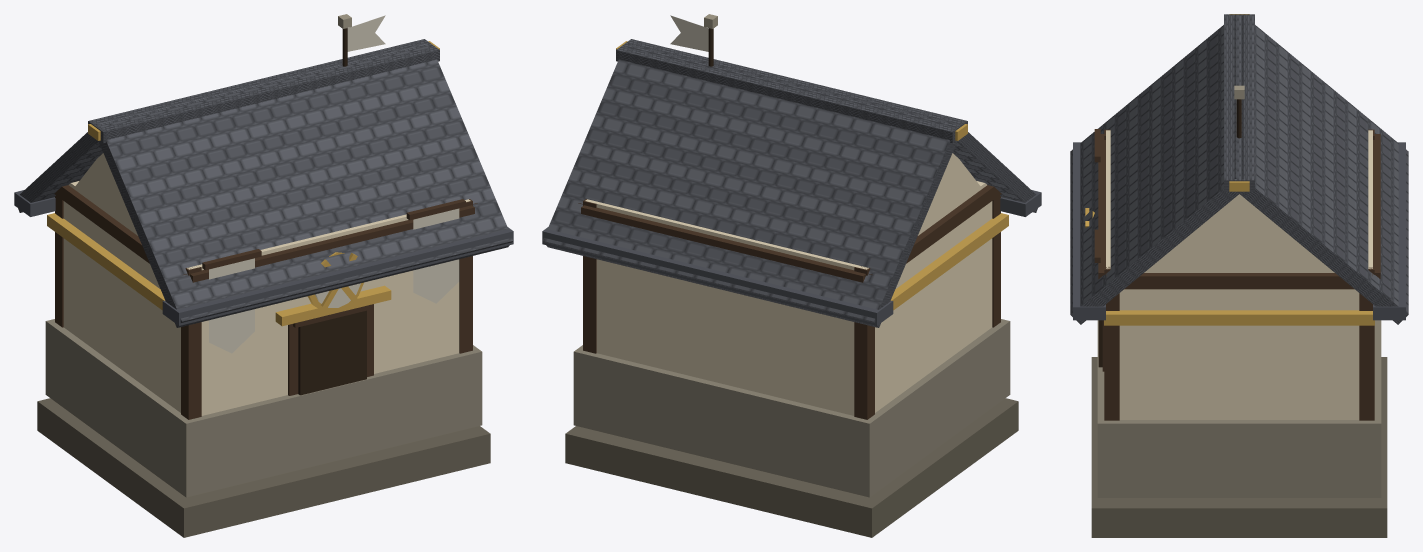
The model's file is mage-L1.glb.
3 views of the same model, side by side, from view 1: azimuth 30°, elevation 25°; view 2: azimuth 150°, elevation 25°; view 3: azimuth 270°, elevation 25° (orthographic).
Parts seen in each view (by area): view 1: building-elite-L1; view 2: building-elite-L1; view 3: building-elite-L1.
Boxes of the visible parts, box(x1,y1,x2,y2) form: building-elite-L1: box(14, 14, 513, 537); building-elite-L1: box(542, 14, 1041, 537); building-elite-L1: box(1070, 14, 1408, 537).
Size of the model in its own units: 1.82 by 2.09 by 1.55.
10 materials, 1 textured.
